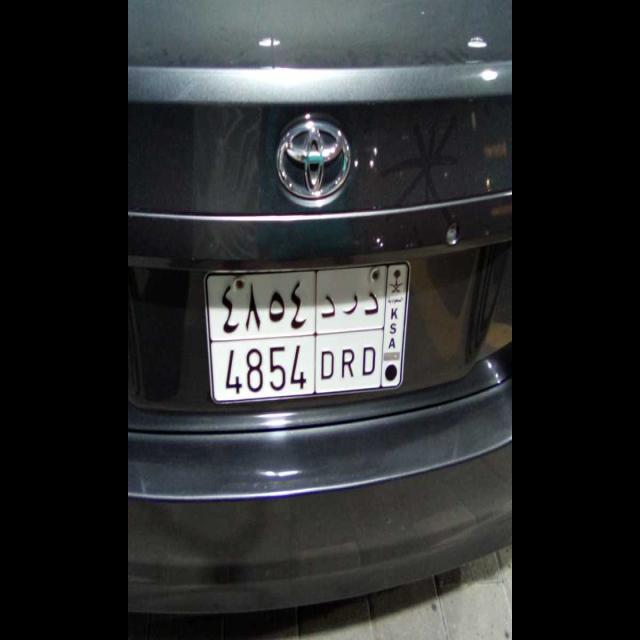license_plate: (209, 336, 383, 402)
